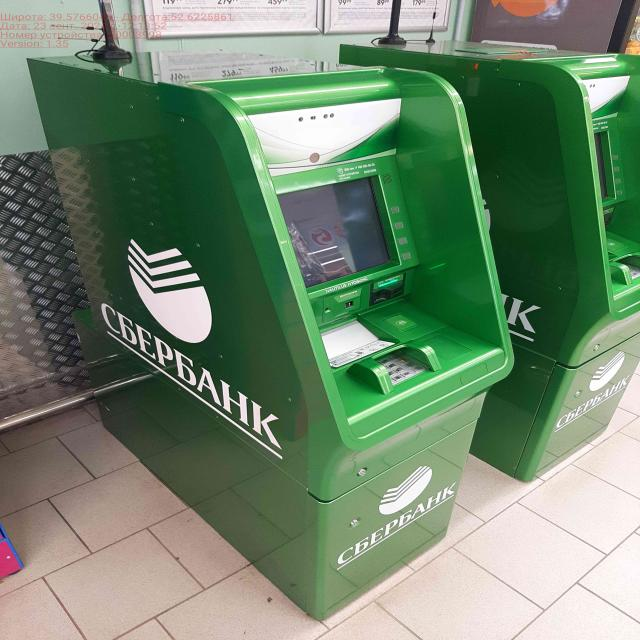bank: (28, 50, 515, 616), (342, 35, 640, 484)
